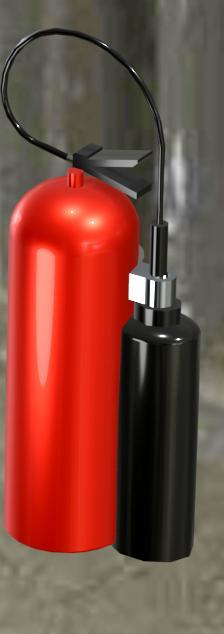Fire Extinguisher: (10, 12, 224, 585)
